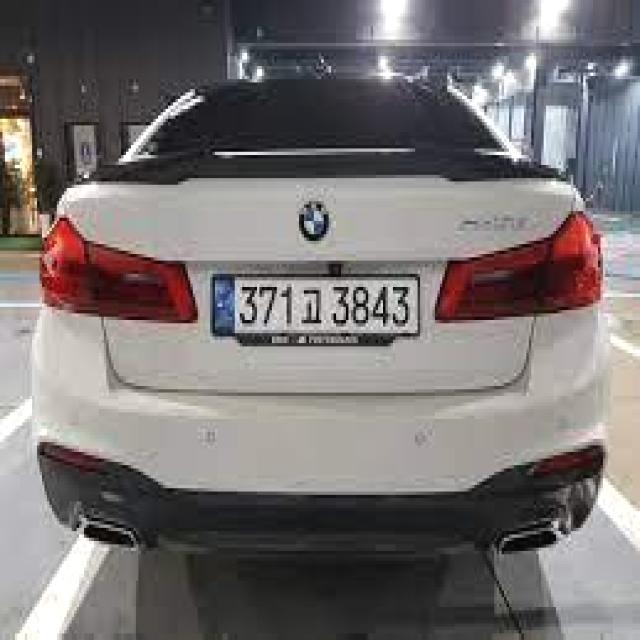car: (21, 65, 614, 591)
illegal_plate: (216, 271, 420, 349)
